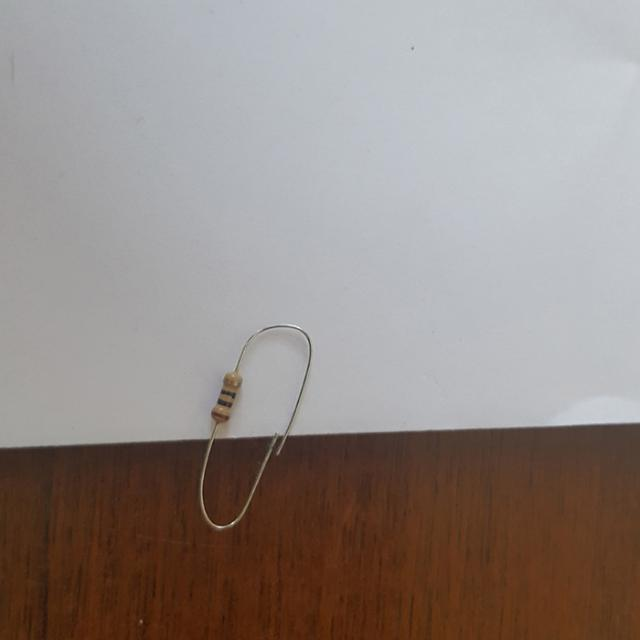black: (219, 389, 234, 397), (218, 399, 232, 407)
brown: (211, 410, 228, 420)
gold: (223, 379, 239, 387)
resistor: (199, 363, 255, 430)
